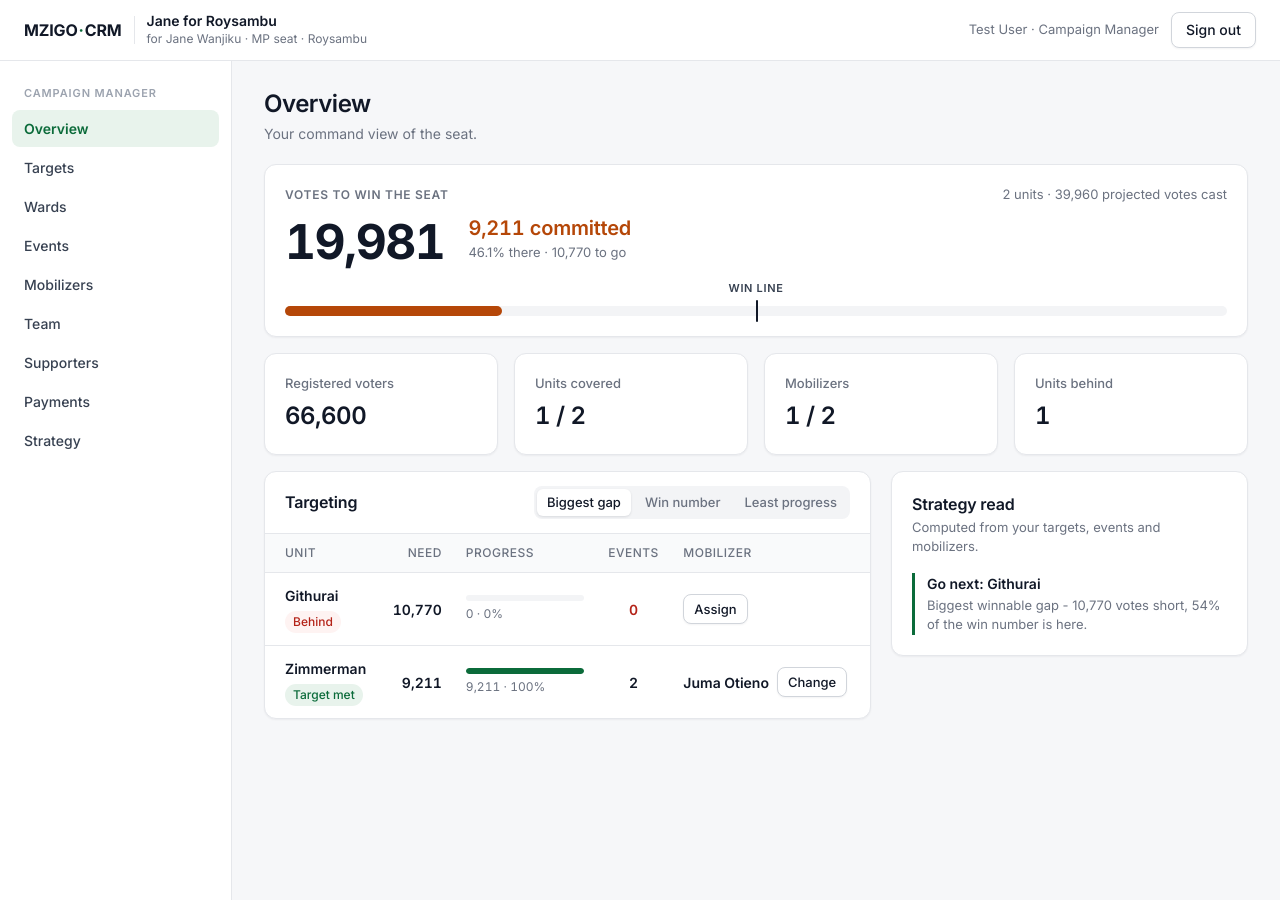
payments › releases a payment after showing that practice mode moves no money
The image size is (1280, 900).
Click the button "Payments".
click(116, 401)  # box [12,383,219,420]
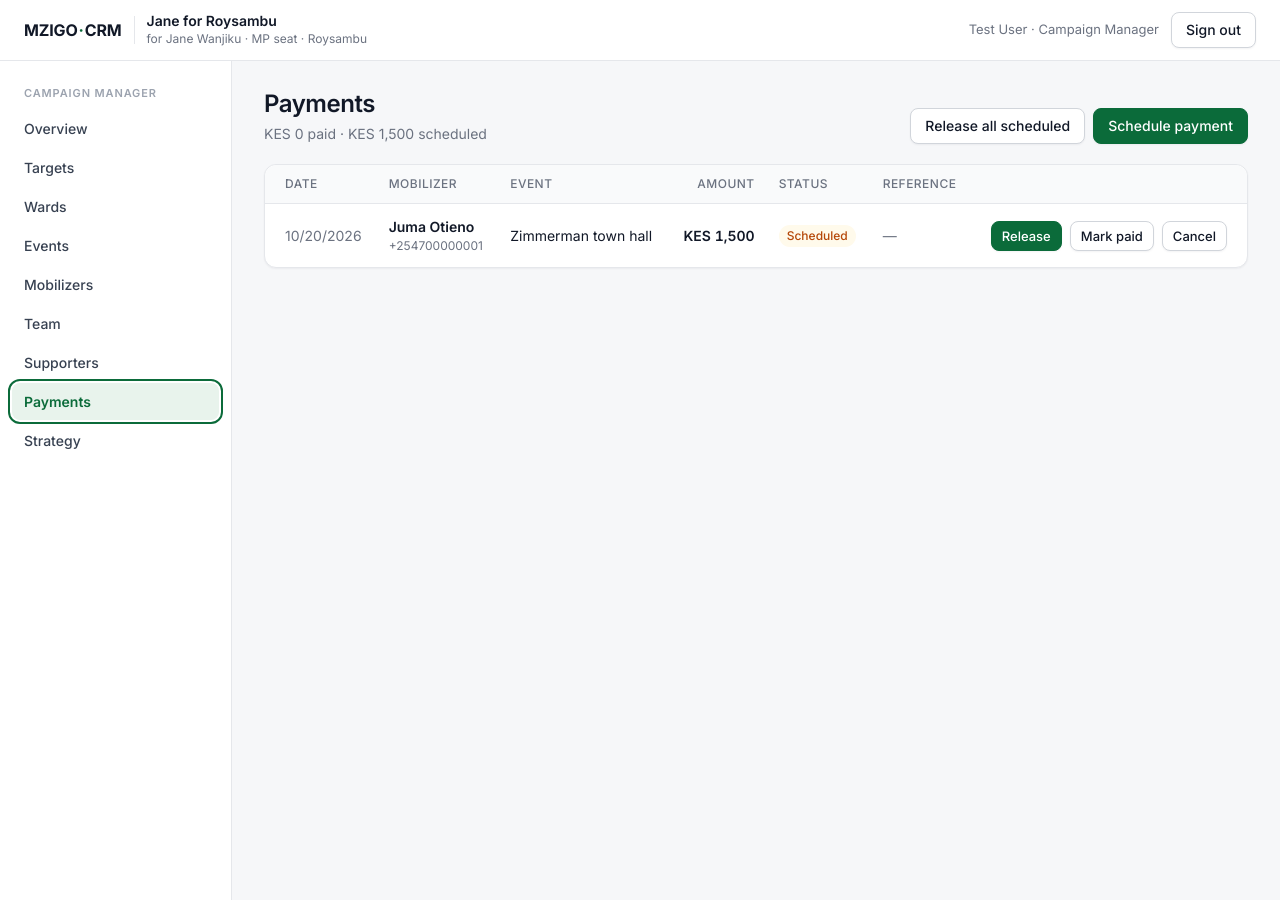
Expected: the text "Juma Otieno" is shown, [389,216,486,237]
Click the button "Release".
click(1026, 236)  # box [991,221,1062,251]
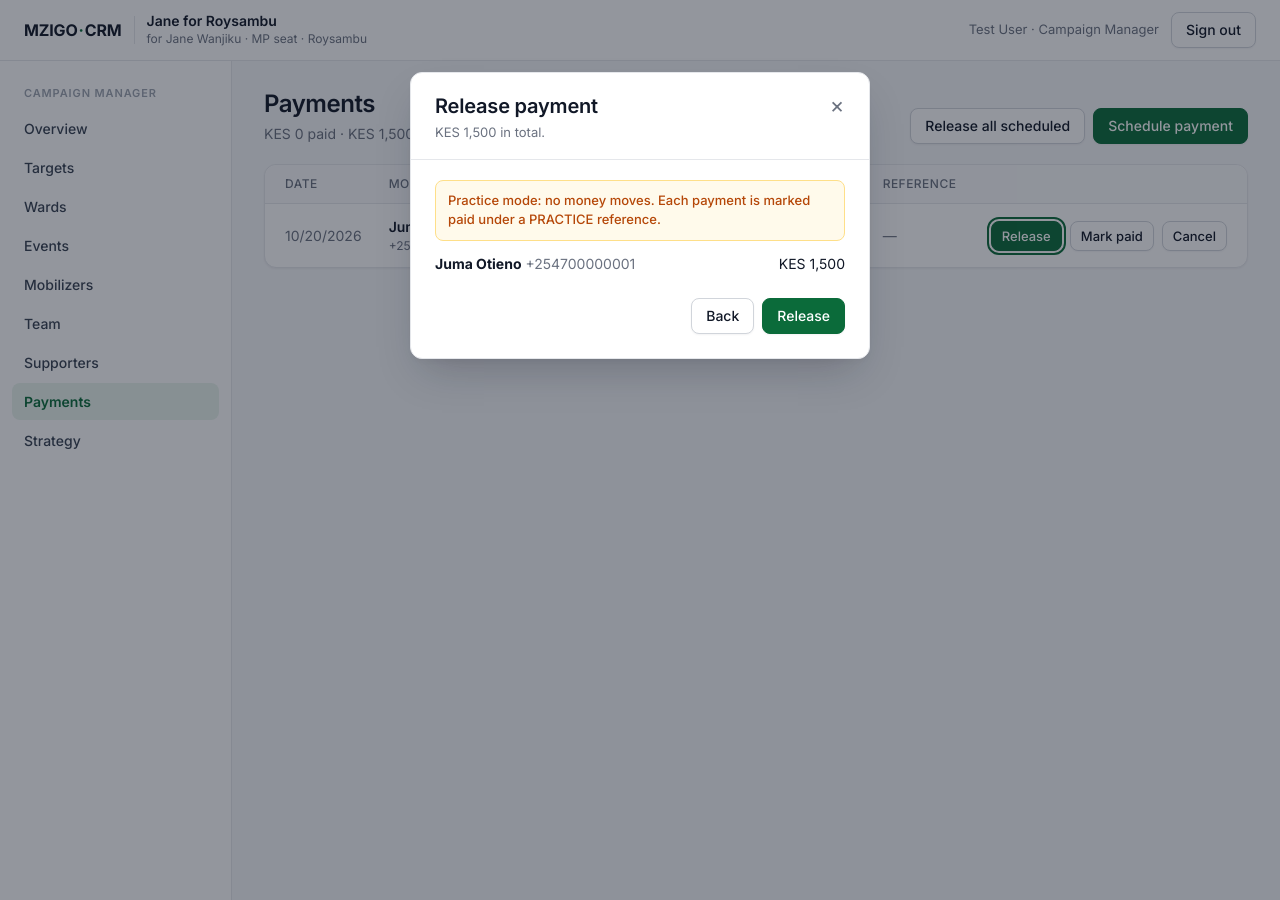
Expected: the text "Practice mode: no money moves" is shown, [448,192,810,227]
Click the button "Release".
click(804, 316)  # box [762,298,845,334]
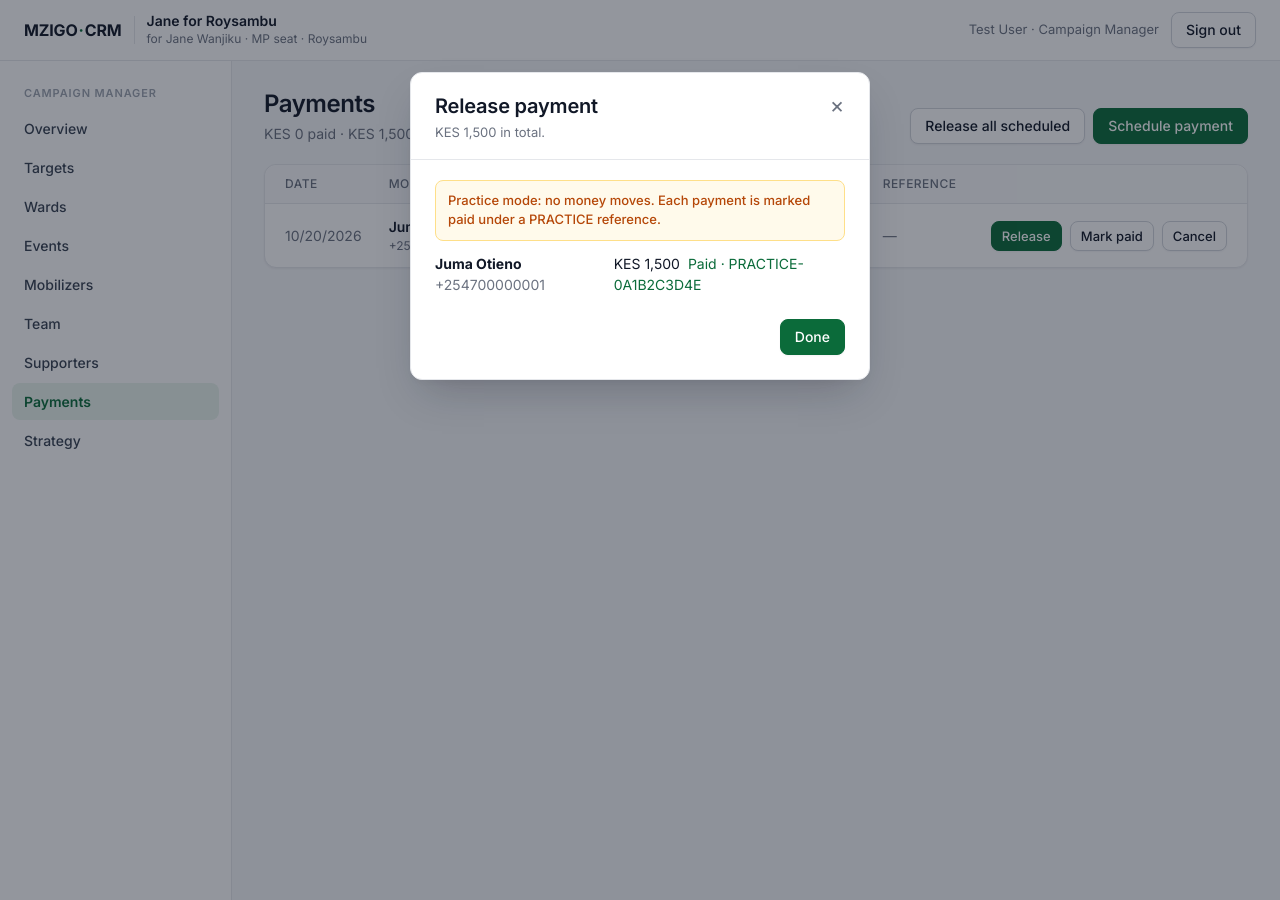
Expected: the text "Paid · PRACTICE-0A1B2C3D4E" is shown, [614,254,804,292]
